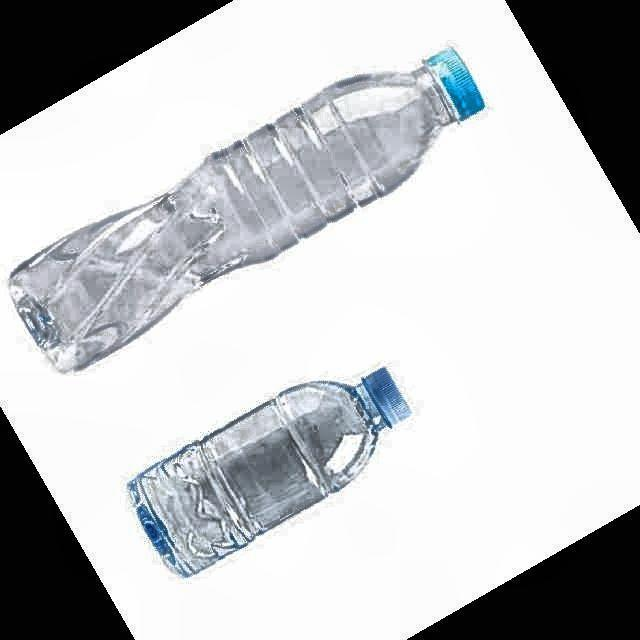plastic: (10, 48, 484, 370), (129, 368, 409, 576)
